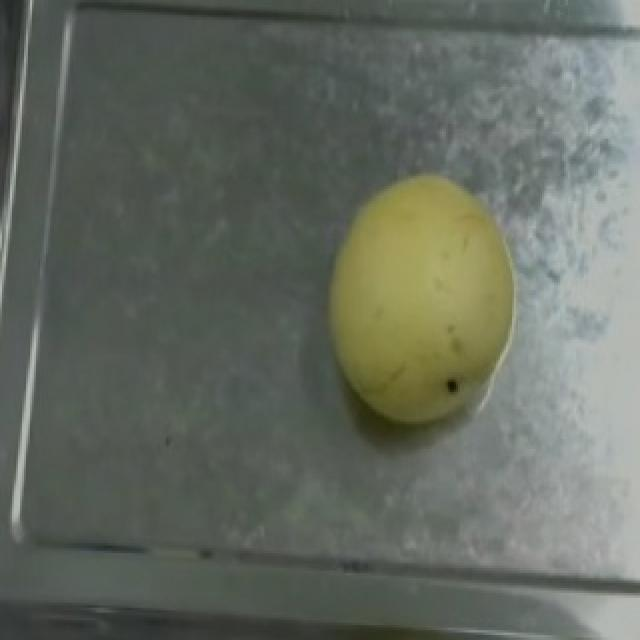Fruit: (314, 158, 530, 436)
